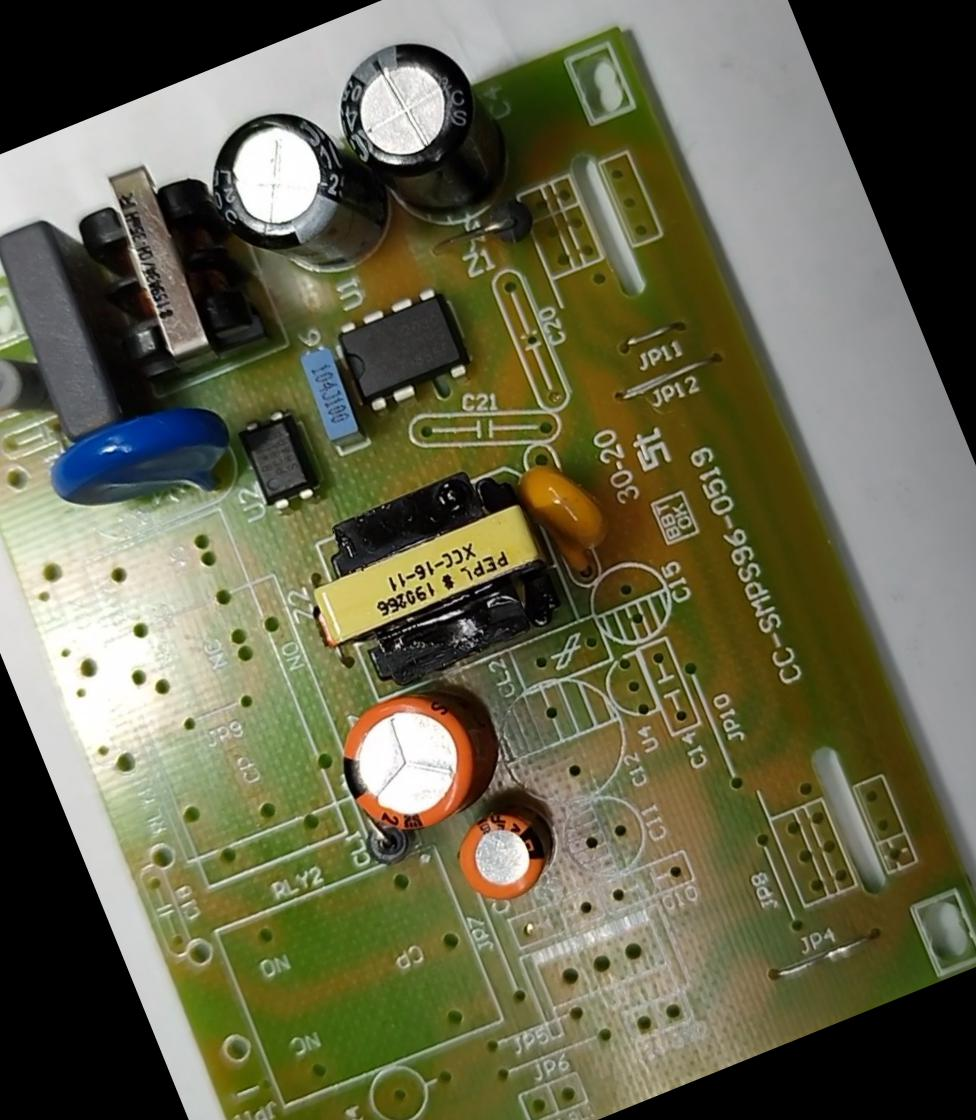Cap1: (315, 675, 496, 857)
Cap2: (441, 794, 569, 916)
Cap3: (182, 81, 402, 316)
Cap4: (314, 18, 521, 252)
MOSFET: (324, 277, 478, 422)
Mov: (35, 380, 248, 553)
Resistor: (0, 336, 56, 445)
Transformer: (290, 451, 570, 702), (44, 136, 277, 403)
